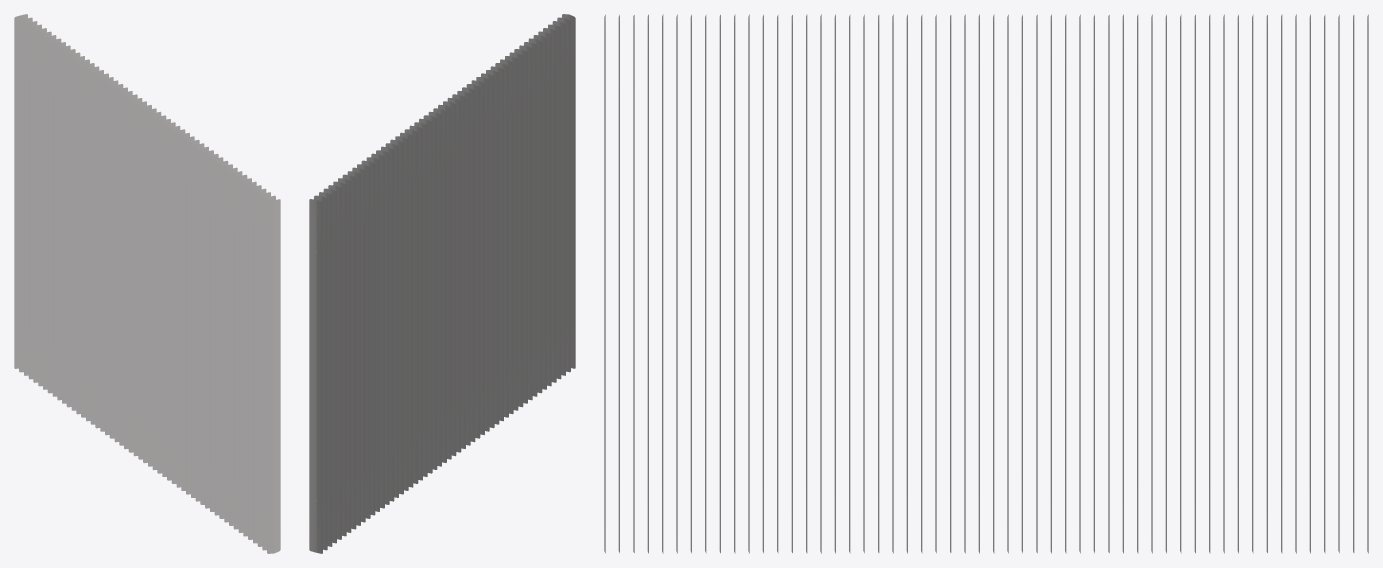
The model's file is Rendijas.obj.
The picture shows the model from 3 angles, left to right: view 1: azimuth 30°, elevation 25°; view 2: azimuth 150°, elevation 25°; view 3: azimuth 270°, elevation 25°; orthographic projection. The views are drawn at different scales.
Parts seen in each view (by area): view 1: Rendijas; view 2: Rendijas; view 3: Rendijas.
Part boxes in pixels (<box>): Rendijas: <box>14,14,280,553</box>; Rendijas: <box>309,14,575,553</box>; Rendijas: <box>604,14,1368,553</box>.
Bounding box in the file's own units: 0.1118 × 2.79 × 3.63.
